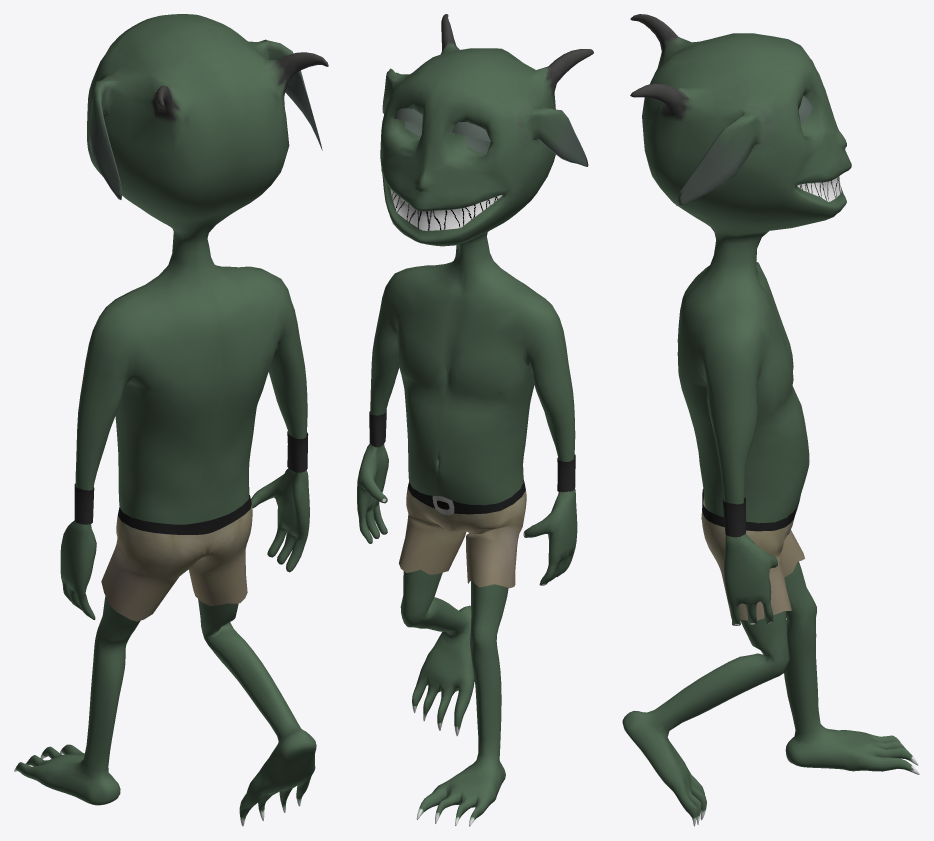
File: lwjglcharactergoblin10_000018.obj
The picture shows the model from 3 angles, left to right: view 1: azimuth 30°, elevation 25°; view 2: azimuth 150°, elevation 25°; view 3: azimuth 270°, elevation 25°; orthographic projection. The views are drawn at different scales.
Parts seen in each view (by area): view 1: Cube.002; view 2: Cube.002; view 3: Cube.002.
Boxes of the visible parts, left/top/right/bottom form: Cube.002: left=14, top=14, right=328, bottom=826; Cube.002: left=357, top=14, right=593, bottom=826; Cube.002: left=622, top=14, right=919, bottom=826.
Size of the model in its own units: 1.18 by 3.79 by 1.35.
